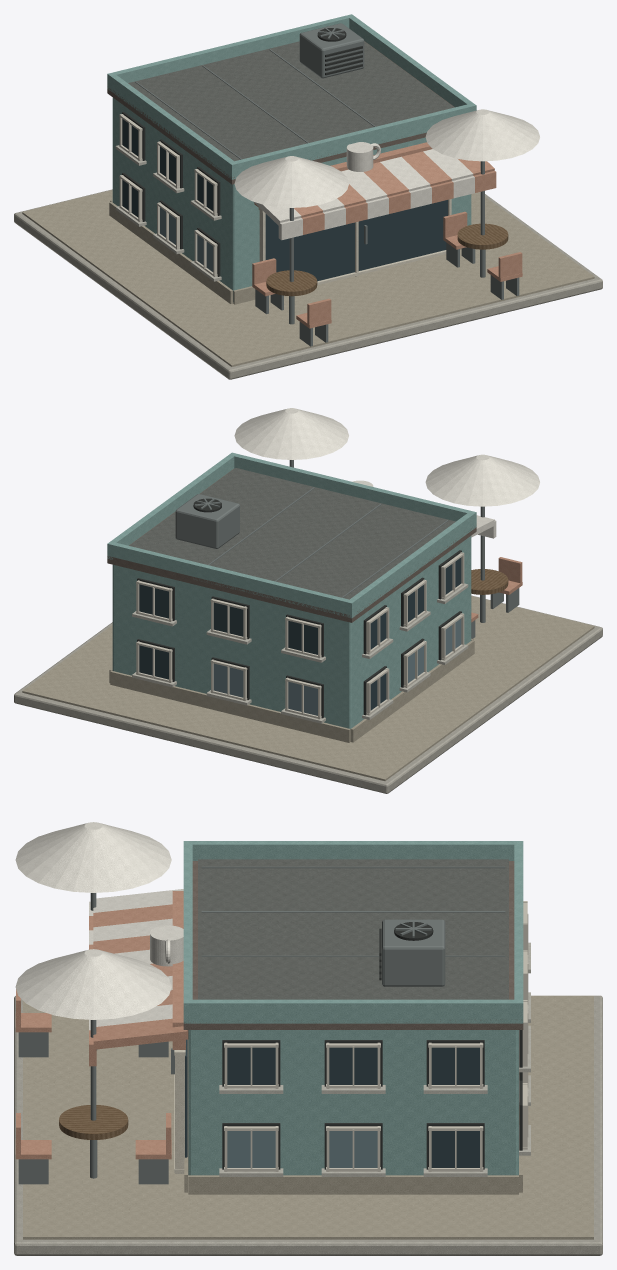
File: EXP_SHOP_CAFE.glb
3 views of the same model, one above another, from view 1: azimuth 30°, elevation 25°; view 2: azimuth 150°, elevation 25°; view 3: azimuth 270°, elevation 25° (orthographic). The views are drawn at different scales.
Visible parts, largest first — view 1: EXP_SHOP_CAFE_Visual; view 2: EXP_SHOP_CAFE_Visual; view 3: EXP_SHOP_CAFE_Visual.
Boxes of the visible parts, box(x1,y1,x2,y2) form: EXP_SHOP_CAFE_Visual: box(14, 14, 602, 379); EXP_SHOP_CAFE_Visual: box(14, 408, 602, 793); EXP_SHOP_CAFE_Visual: box(14, 822, 602, 1255).
Size of what is drawn, in the model's own units: 3.92 by 1.8 by 3.92.
Materials: 15 (10 with a texture image).
